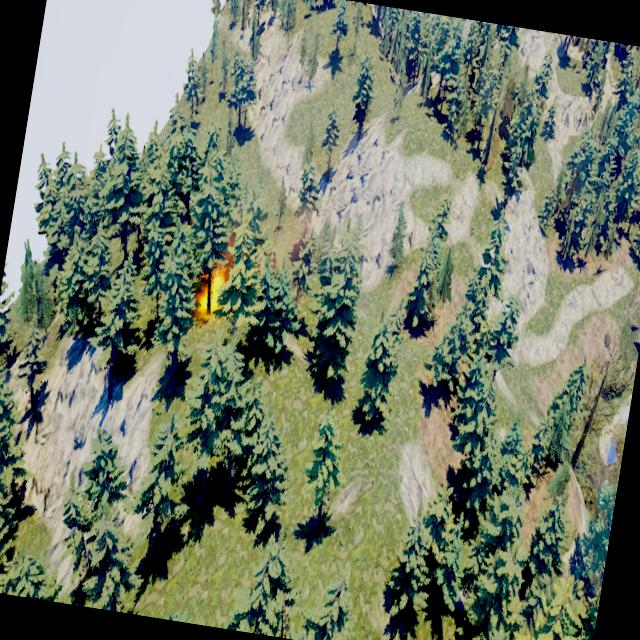fire: (194, 266, 230, 320)
